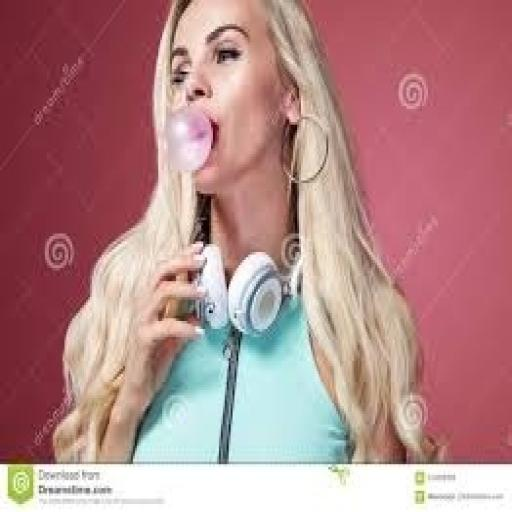listening_to_music: (47, 0, 444, 464)
